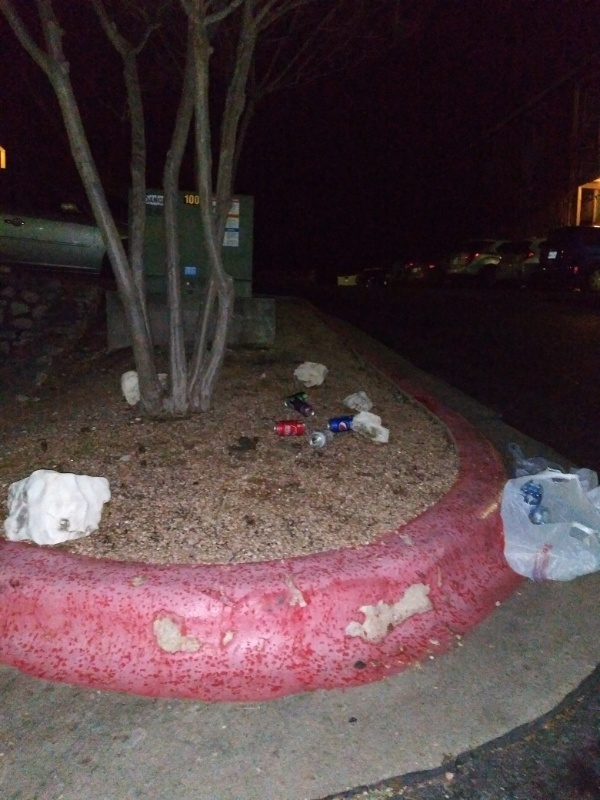can: (272, 419, 307, 437), (287, 398, 317, 419), (326, 415, 356, 435), (309, 428, 335, 450), (284, 391, 310, 408)
